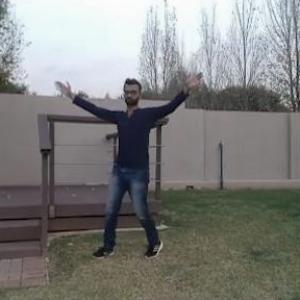takeoff: (58, 74, 206, 266)
